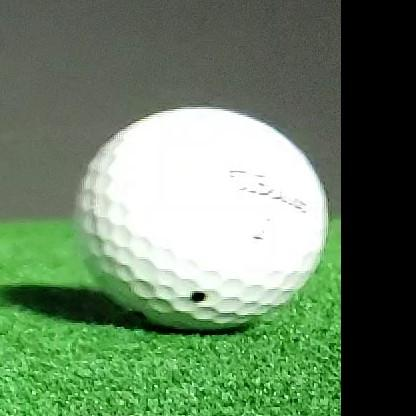golfball: (76, 109, 329, 331)
